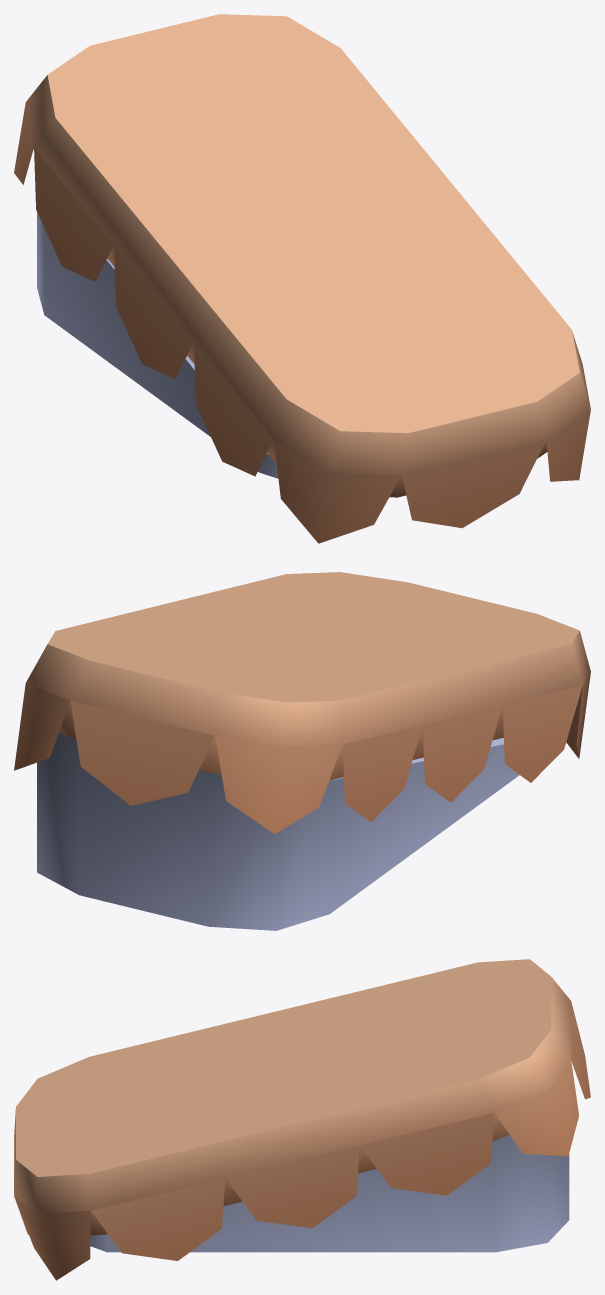
The model's file is block-grass-overhang-large-slope-narrow.glb.
3 renders of one model, top to bottom at view 1: azimuth 30°, elevation 25°; view 2: azimuth 150°, elevation 25°; view 3: azimuth 270°, elevation 25°, orthographic. The views are drawn at different scales.
Visible parts, largest first — view 1: block-grass-overhang-large-slope-narrow; view 2: block-grass-overhang-large-slope-narrow; view 3: block-grass-overhang-large-slope-narrow.
Part boxes in pixels (<box>): block-grass-overhang-large-slope-narrow: <box>14,14,590,543</box>; block-grass-overhang-large-slope-narrow: <box>14,572,590,930</box>; block-grass-overhang-large-slope-narrow: <box>14,959,590,1280</box>.
Bounding box in the file's own units: 1.08 × 0.9144 × 2.08.
